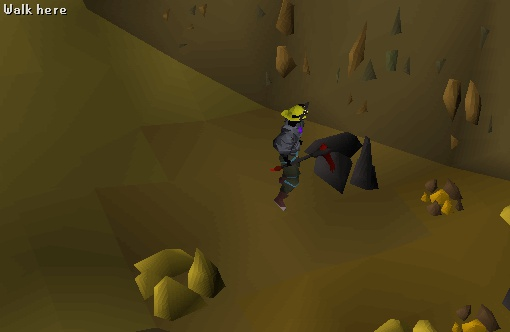depleted: (299, 122, 395, 201)
gold: (119, 241, 266, 313)
